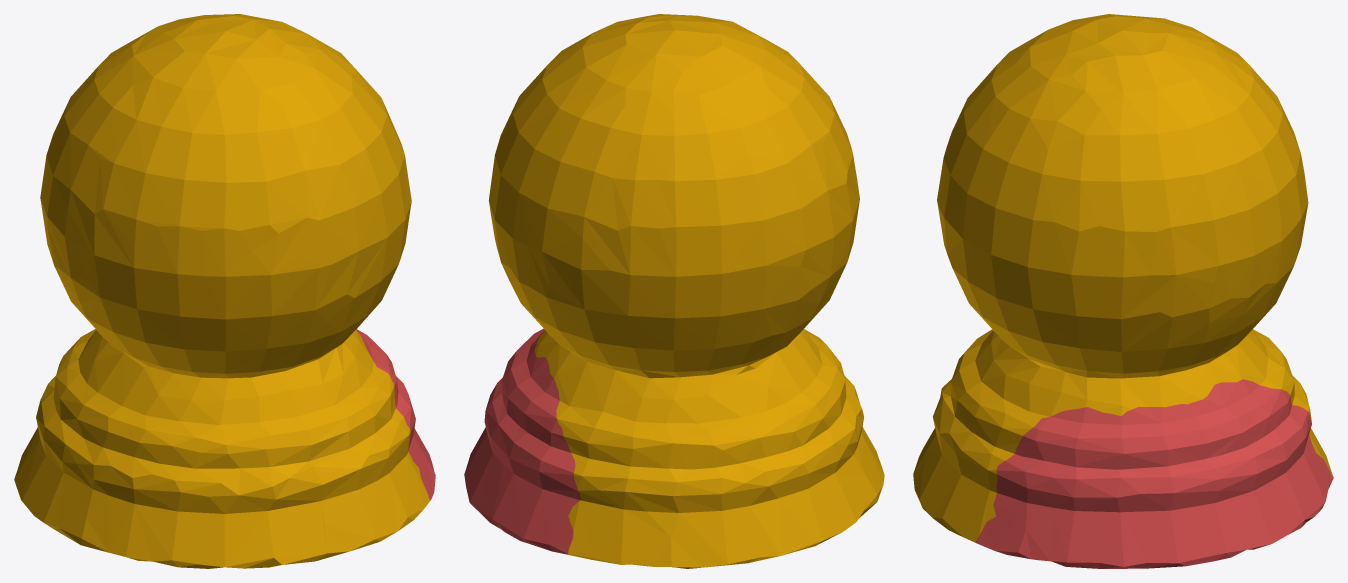
Rendered from fractured_27_2pcs.glb.
The picture shows the model from 3 angles, left to right: view 1: azimuth 30°, elevation 25°; view 2: azimuth 150°, elevation 25°; view 3: azimuth 270°, elevation 25°; orthographic projection.
Visible parts, largest first — view 1: piece_0.obj, piece_1.obj; view 2: piece_0.obj, piece_1.obj; view 3: piece_0.obj, piece_1.obj.
Part boxes in pixels (bbox=[...]): piece_0.obj: bbox=[14, 14, 429, 568]; piece_1.obj: bbox=[356, 329, 435, 500]; piece_0.obj: bbox=[488, 14, 884, 568]; piece_1.obj: bbox=[464, 328, 581, 555]; piece_0.obj: bbox=[913, 14, 1333, 542]; piece_1.obj: bbox=[975, 379, 1333, 568].
Bounding box in the file's own units: 0.8448 × 1 × 0.8424.
